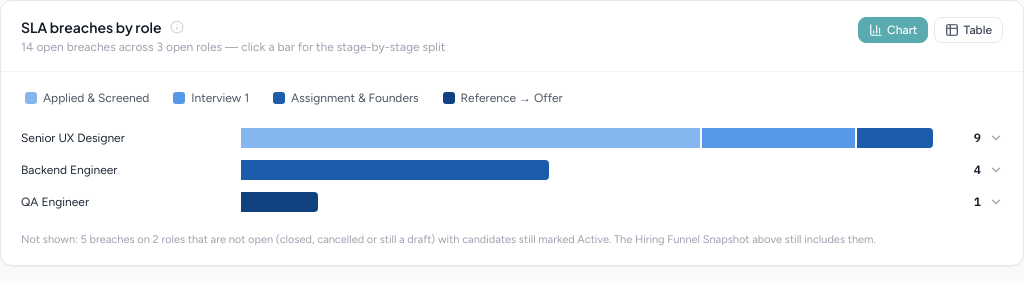
SlaBreachesByRole › subtitle only invites a click where a click does something
Check: the link "Senior UX Designer" is shown, box [21, 131, 125, 145]
Check: the text "click a bar for the stage-by-stage split" is shown, box [222, 40, 445, 54]
What coordinates should you click on to do the following:
click the button "Table"
I would click on:
 (969, 30)
Its box is [934, 17, 1003, 43].
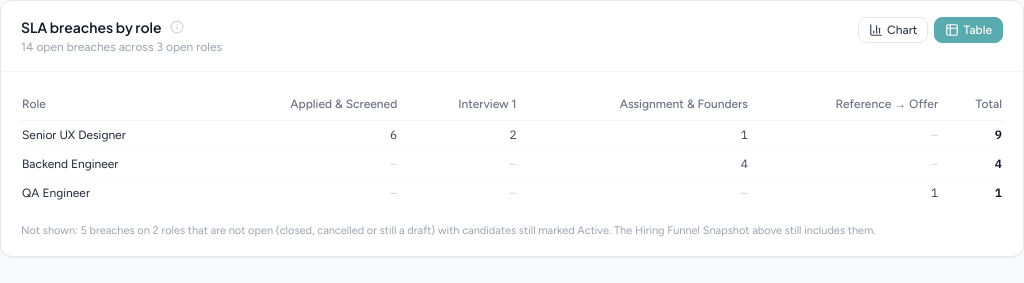
Check: the text "14 open breaches across 3 open roles" is shown, box [21, 39, 222, 55]
Check: the text "click a bar" is gone
